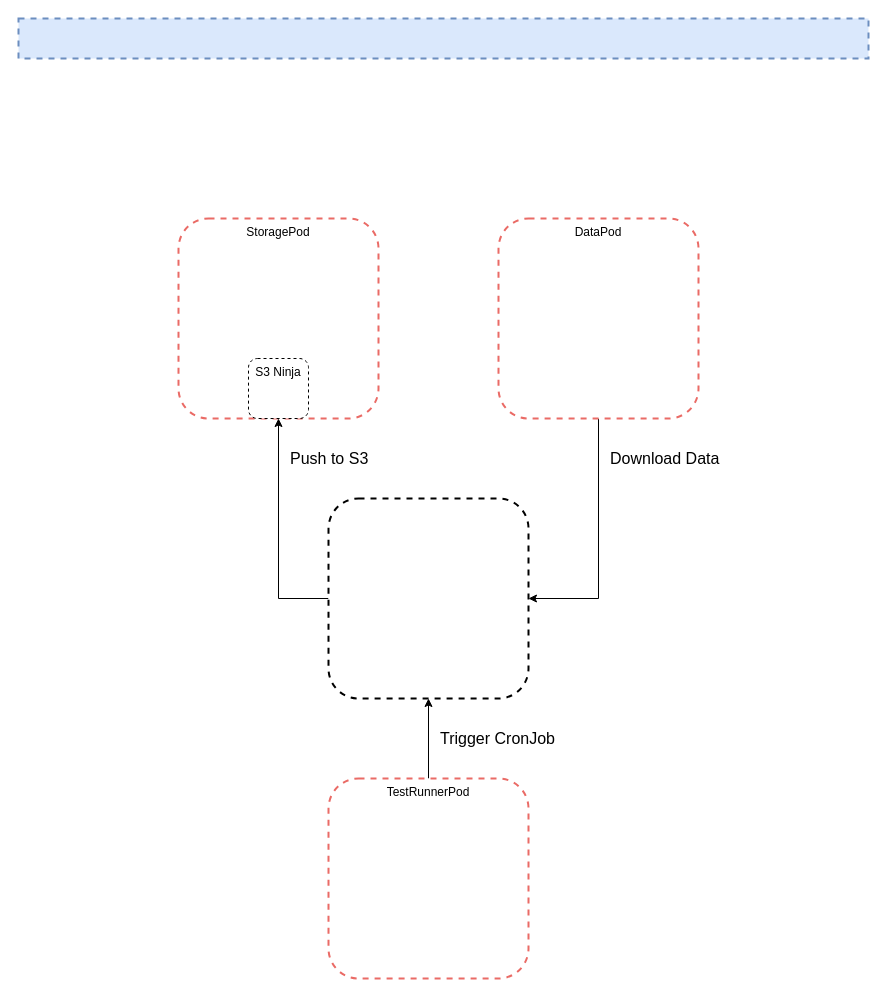
Some shapes in this 886 by 996 pixel diagram are drawn without their labels. Here are the shapes that lost their labels. From the top down, the centre of each, then its label:
point (443, 38): Backup Data to S3
point (428, 598): CronJobPod
